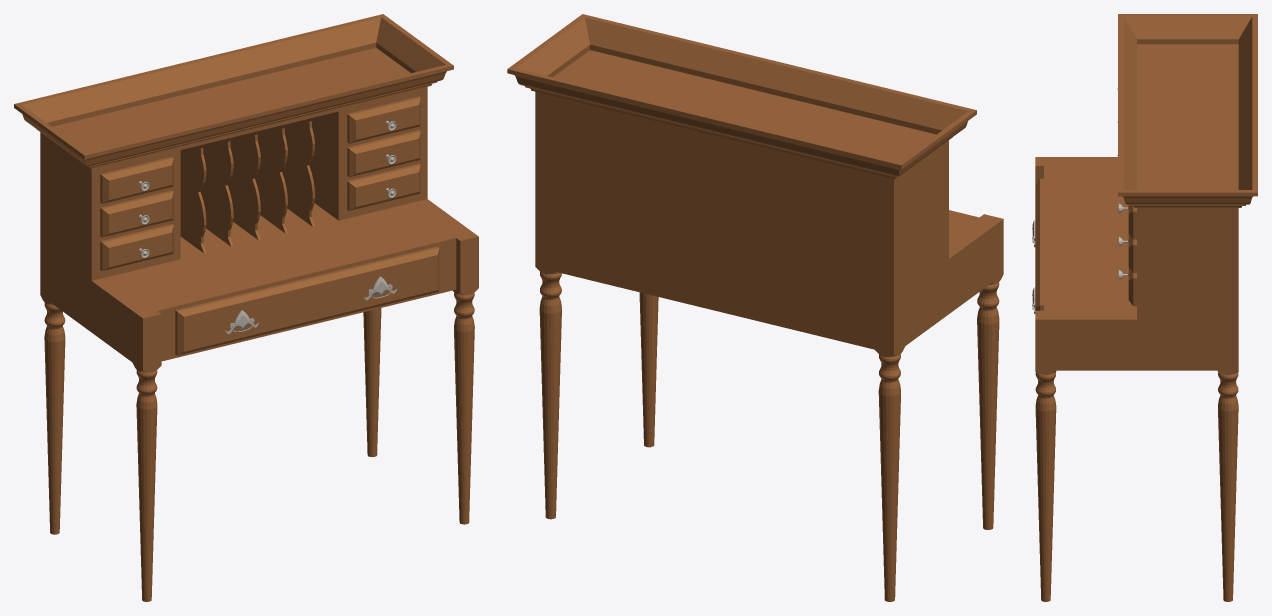
The model's file is desk-by-cmht-oculus-7Kt95WBY00t.glb.
3 views of the same model, side by side, from view 1: azimuth 30°, elevation 25°; view 2: azimuth 150°, elevation 25°; view 3: azimuth 270°, elevation 25° (orthographic). The views are drawn at different scales.
Parts seen in each view (by area): view 1: Node; view 2: Node; view 3: Node.
Boxes of the visible parts, x1,y1,x2,y2 form: Node: (14,14,478,601); Node: (507,14,1003,601); Node: (1032,14,1257,601).
Bounding box in the file's own units: 37.38 × 41 × 19.98.
